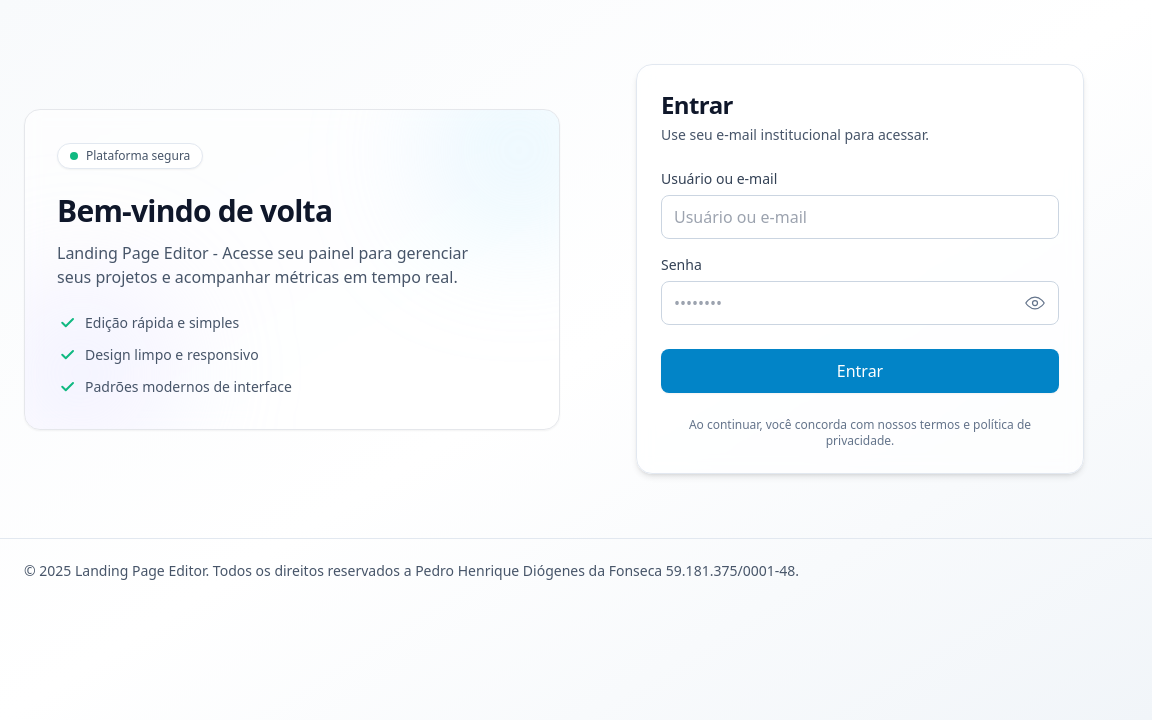
Test: Login page (integration) › exibe mensagem de erro quando o login falha
Type "alguem" into the field labelled "Usuário ou e-mail" at (860, 217), box [661,195,1059,239]
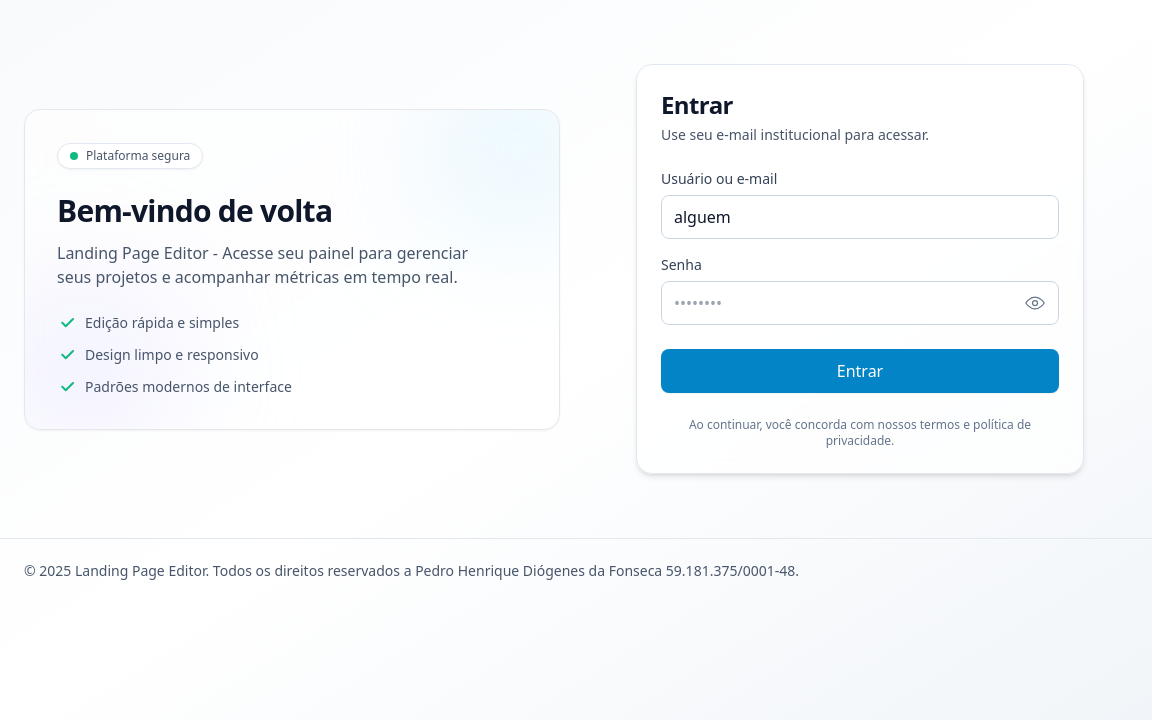
Type "errado" into the password field labelled "Senha" at (860, 303), box [661,281,1059,325]
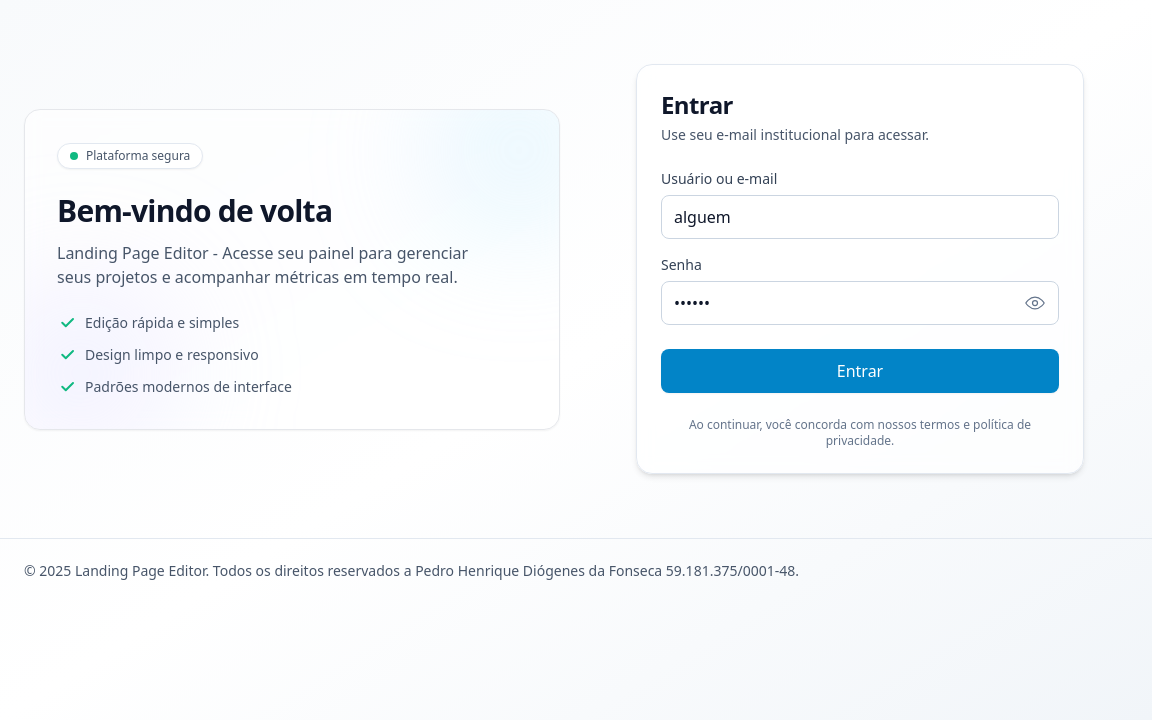
Click the button "Entrar" at (860, 371), box [661,349,1059,393]
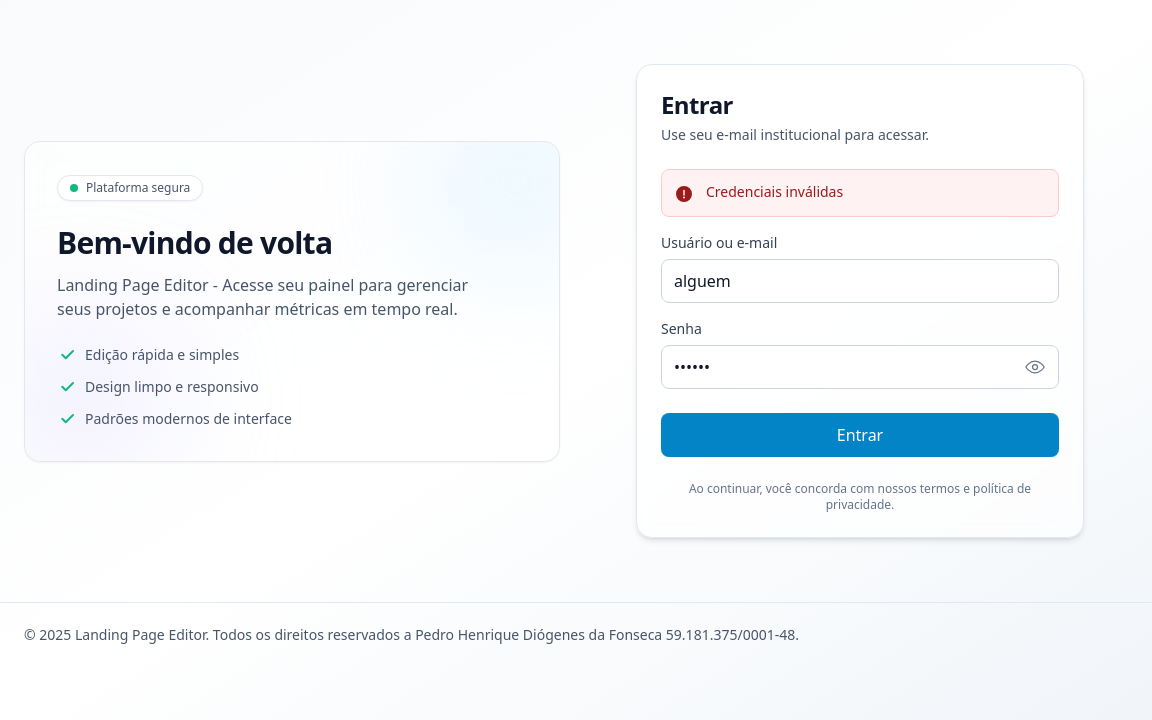
Expected: the message reads "Credenciais inválidas", [706,182,843,201]
